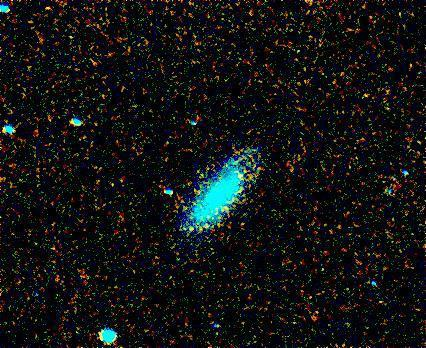star: (224, 161, 254, 191)
